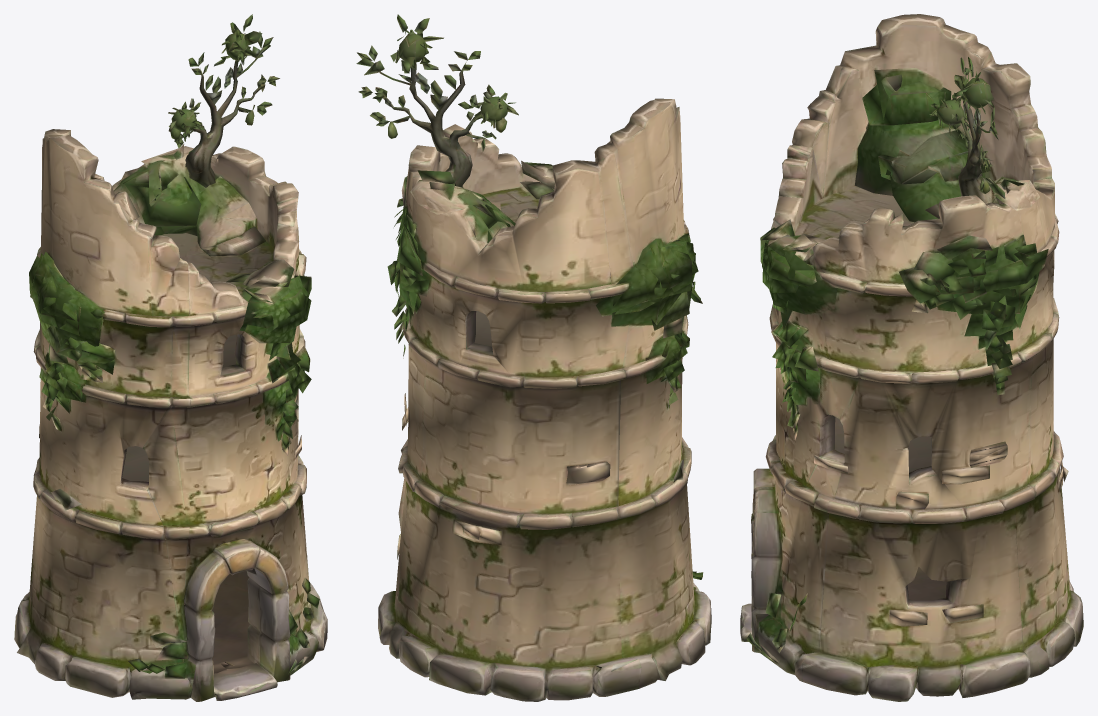
Rendered from tower.glb.
3 views of the same model, side by side, from view 1: azimuth 30°, elevation 25°; view 2: azimuth 150°, elevation 25°; view 3: azimuth 270°, elevation 25° (orthographic). The views are drawn at different scales.
Bounding box in the file's own units: 0.5062 × 1 × 0.5036.
1 material, 1 textured.
